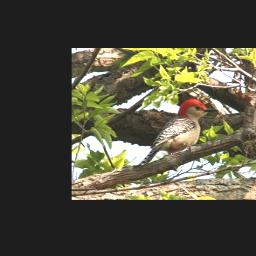Woodpecker: (134, 97, 219, 168)
